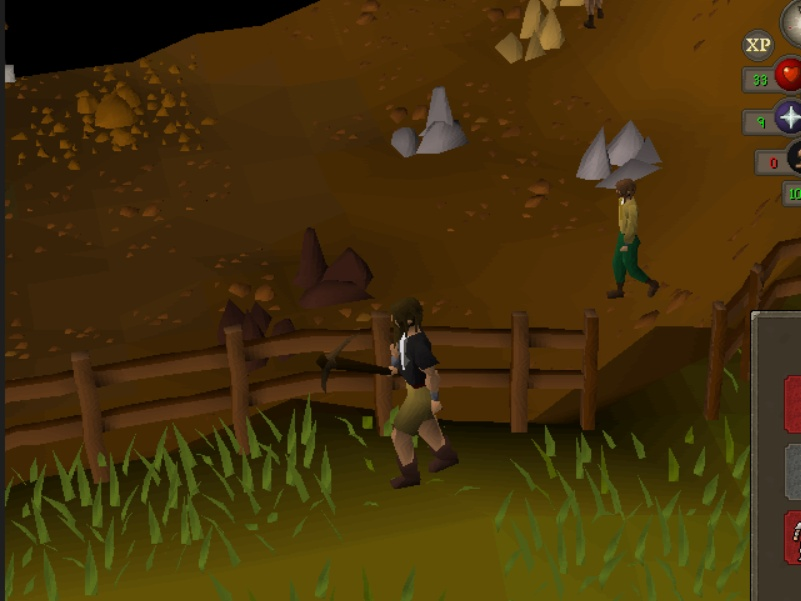clay: (487, 1, 583, 82)
iron: (214, 290, 301, 371), (294, 222, 381, 303)
tin: (575, 108, 671, 191), (388, 81, 475, 162)
